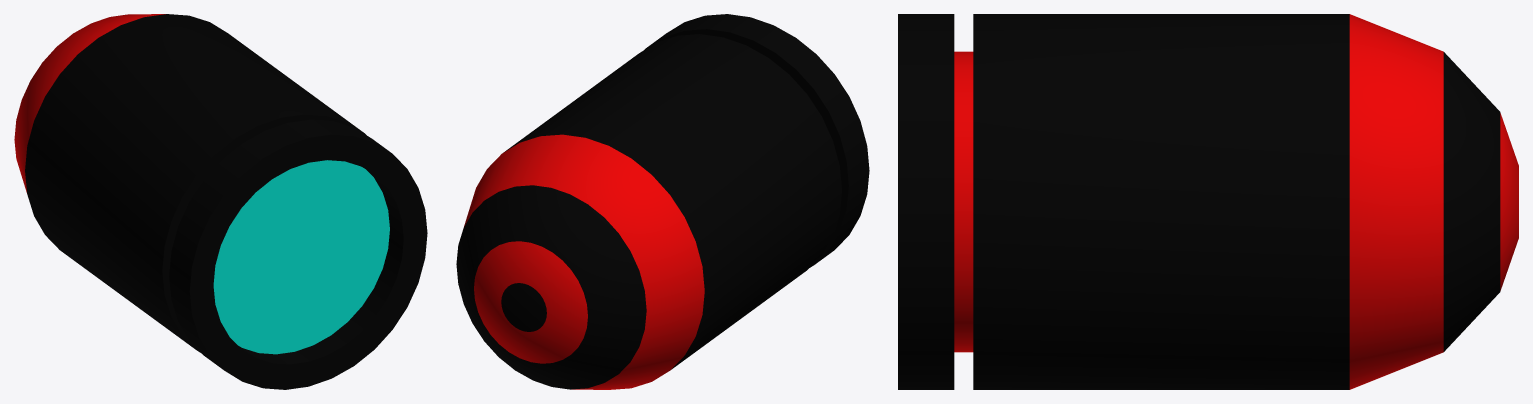
The model's file is Ammo_Rocket.fbx.
3 views of the same model, side by side, from view 1: azimuth 30°, elevation 25°; view 2: azimuth 150°, elevation 25°; view 3: azimuth 270°, elevation 25° (orthographic). The views are drawn at different scales.
Parts seen in each view (by area): view 1: Rocket; view 2: Rocket; view 3: Rocket.
Part boxes in pixels (box(x1,y1,x2,y2)): Rocket: box(14, 14, 427, 389); Rocket: box(456, 14, 869, 389); Rocket: box(898, 14, 1518, 389).
Size of the model in its own units: 200 by 200 by 330.
